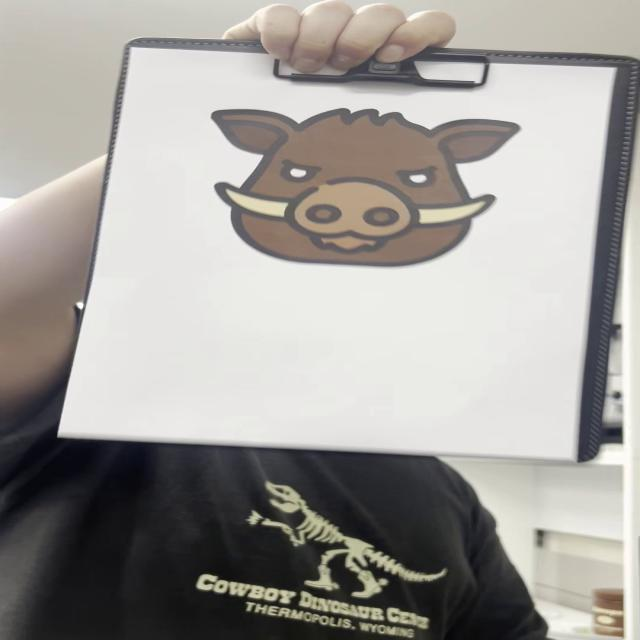animal: (208, 107, 521, 268)
